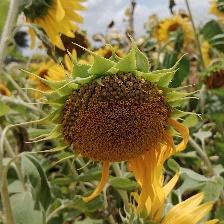sunflower: (21, 32, 208, 193)
